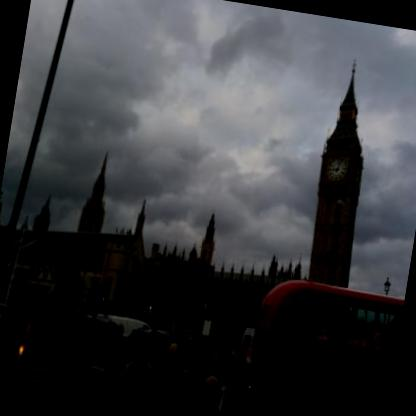bus: (239, 270, 406, 415)
